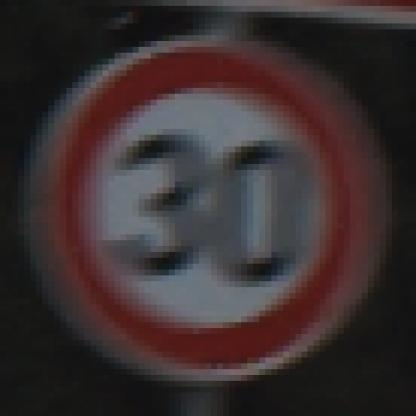Speed Limit 30: (43, 38, 360, 372)
